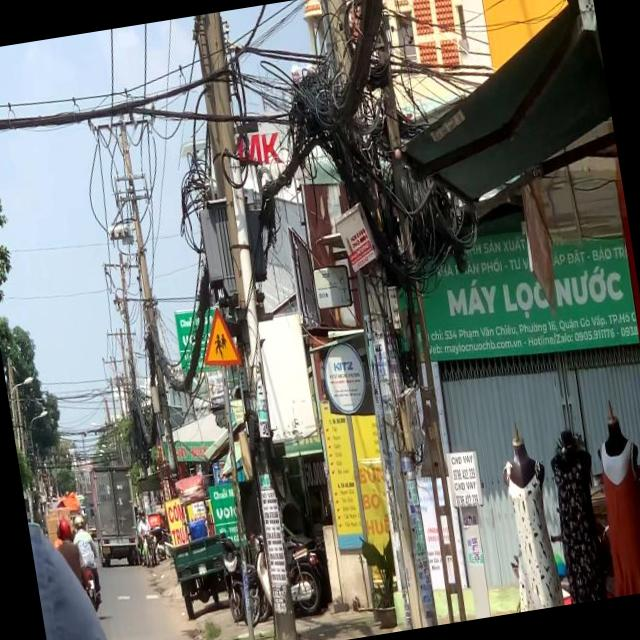W-225: (195, 306, 242, 369)
